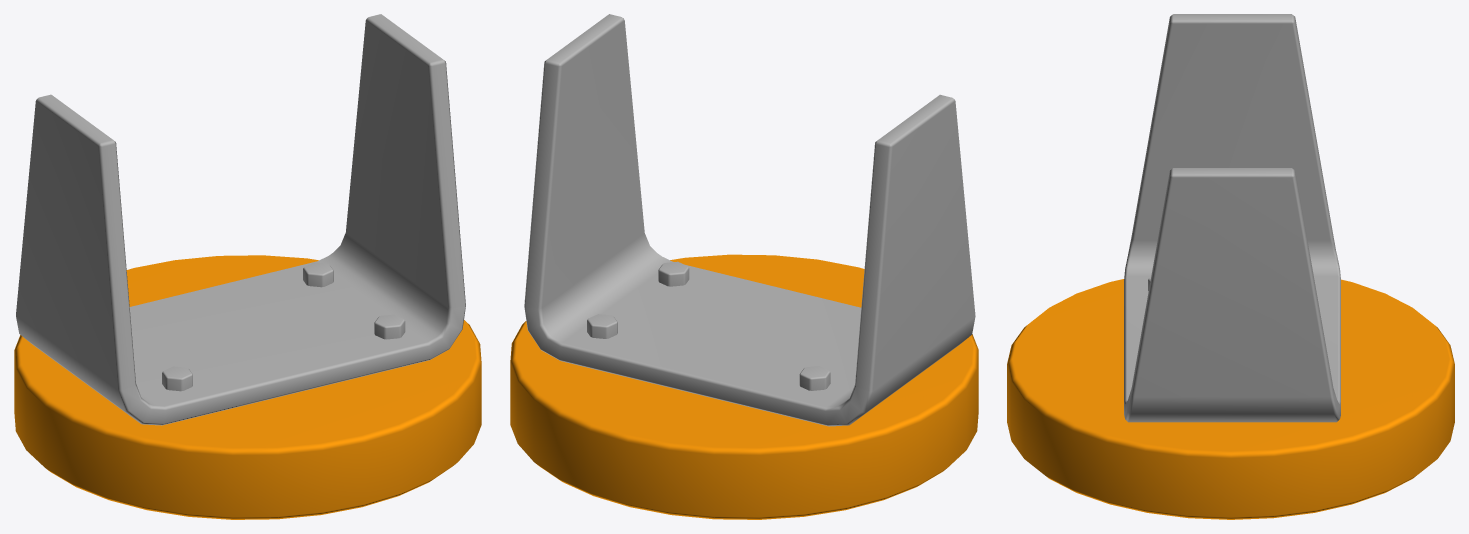
Rendered from obstacle_15_002.fbx.
3 views of the same model, side by side, from view 1: azimuth 30°, elevation 25°; view 2: azimuth 150°, elevation 25°; view 3: azimuth 270°, elevation 25° (orthographic). The views are drawn at different scales.
Parts seen in each view (by area): view 1: obstacle_15_002; view 2: obstacle_15_002; view 3: obstacle_15_002.
Part boxes in pixels (<box>): obstacle_15_002: <box>14,14,481,519</box>; obstacle_15_002: <box>510,14,978,519</box>; obstacle_15_002: <box>1007,14,1454,519</box>.
Size of the model in its own units: 445 by 445 by 363.
